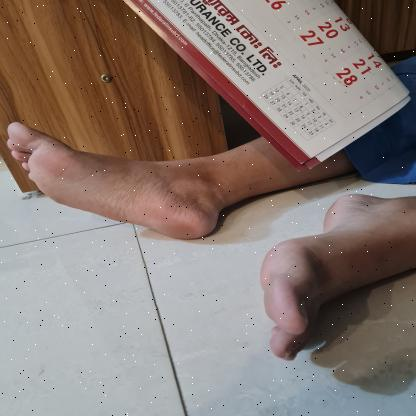leg: (0, 110, 284, 247), (234, 184, 416, 365)
